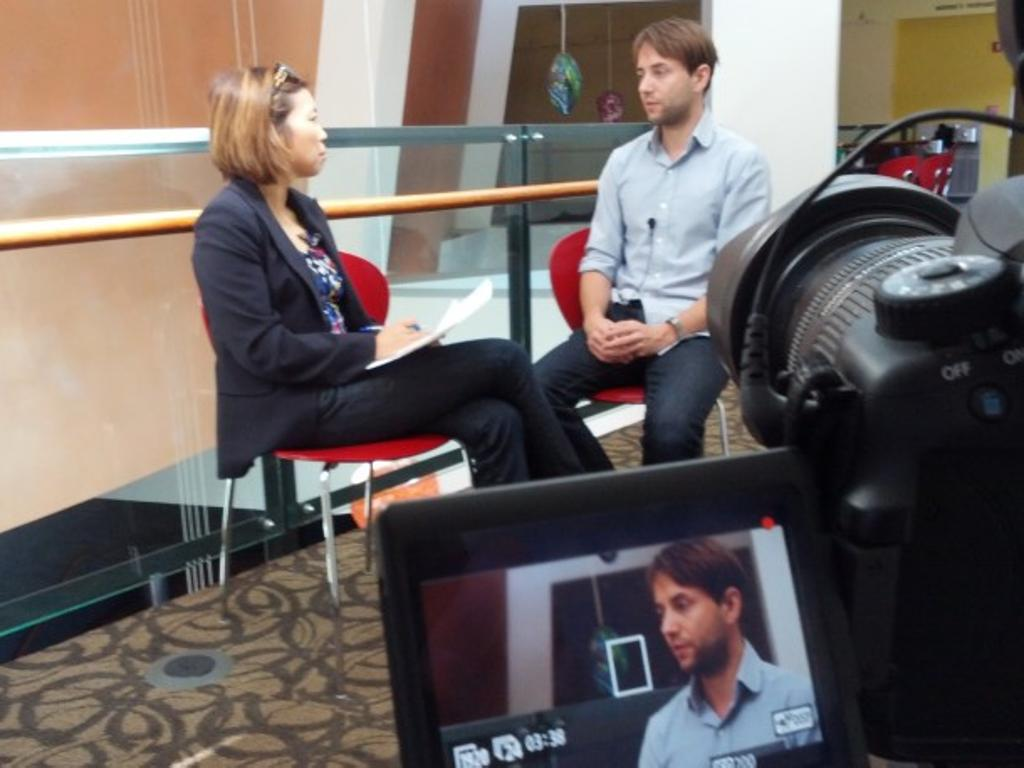face: (658, 580, 710, 670), (276, 82, 328, 170), (632, 38, 684, 120)
